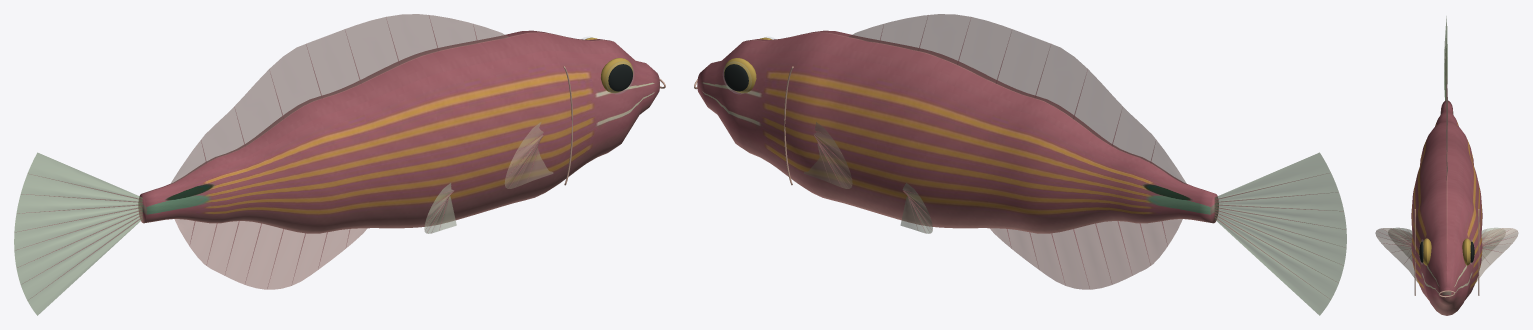
File: sixline-mobile.glb
3 renders of one model, left to right at view 1: azimuth 30°, elevation 25°; view 2: azimuth 150°, elevation 25°; view 3: azimuth 270°, elevation 25°, orthographic. The views are drawn at different scales.
Parts seen in each view (by area): view 1: skin, dorsal, tail, anal, dorsal-ray, pectoral-left, pelvic-left, eye-pupil--1; view 2: skin, dorsal, tail, anal, dorsal-ray, pectoral-left, pelvic-left, eye-pupil--1; view 3: skin, pectoral-left, pelvic-left, eye-iris--1, operculum, dorsal-ray, tail, dorsal, eye-pupil--1.
Part boxes in pixels (x1=…): skin: x1=138, y1=30, x2=659, y2=233; dorsal: x1=170, y1=14, x2=508, y2=184; tail: x1=14, y1=152, x2=142, y2=315; anal: x1=174, y1=219, x2=367, y2=289; dorsal-ray: x1=16, y1=16, x2=543, y2=298; pectoral-left: x1=504, y1=122, x2=553, y2=188; pelvic-left: x1=424, y1=183, x2=456, y2=233; eye-pupil--1: x1=608, y1=64, x2=632, y2=91; skin: x1=697, y1=30, x2=1218, y2=233; dorsal: x1=848, y1=14, x2=1187, y2=184; tail: x1=1214, y1=152, x2=1346, y2=315; anal: x1=990, y1=219, x2=1182, y2=289; dorsal-ray: x1=814, y1=17, x2=1344, y2=296; pectoral-left: x1=804, y1=122, x2=852, y2=188; pelvic-left: x1=900, y1=183, x2=932, y2=233; eye-pupil--1: x1=724, y1=64, x2=748, y2=91; skin: x1=1411, y1=100, x2=1482, y2=315; pectoral-left: x1=1375, y1=228, x2=1518, y2=282; pelvic-left: x1=1388, y1=227, x2=1505, y2=261; eye-iris--1: x1=1423, y1=238, x2=1470, y2=265; operculum: x1=1414, y1=209, x2=1479, y2=297; dorsal-ray: x1=1380, y1=56, x2=1513, y2=263; tail: x1=1444, y1=16, x2=1447, y2=100; dorsal: x1=1446, y1=78, x2=1447, y2=180; eye-pupil--1: x1=1419, y1=241, x2=1474, y2=262.
Bounding box in the file's own units: 0.5972 × 0.217 × 0.1571.
Materials: 11 (1 with a texture image).
